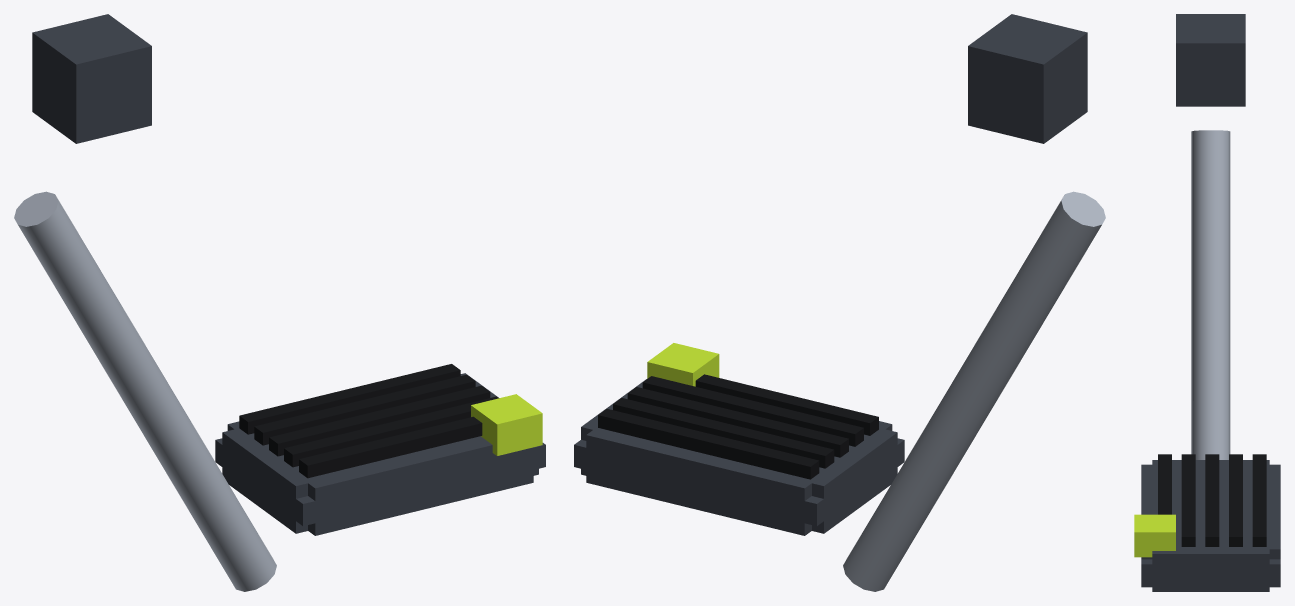
The model's file is kvi-fre-02.glb.
3 views of the same model, side by side, from view 1: azimuth 30°, elevation 25°; view 2: azimuth 150°, elevation 25°; view 3: azimuth 270°, elevation 25° (orthographic). The views are drawn at different scales.
Visible parts, largest first — view 1: Pedal y varilla de freno; view 2: Pedal y varilla de freno; view 3: Pedal y varilla de freno.
Boxes of the visible parts, left/top/right/bottom form: Pedal y varilla de freno: left=14, top=14, right=545, bottom=591; Pedal y varilla de freno: left=574, top=14, right=1105, bottom=591; Pedal y varilla de freno: left=1134, top=14, right=1280, bottom=591.
Bounding box in the file's own units: 0.866 × 1 × 0.285.
